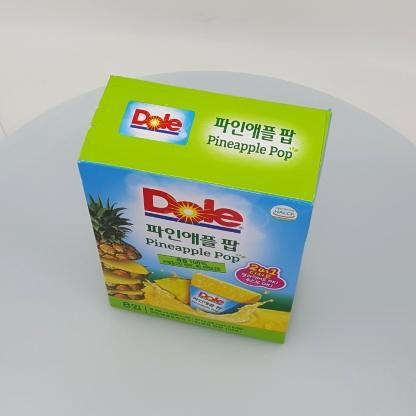---------496ML: (77, 75, 332, 344)
